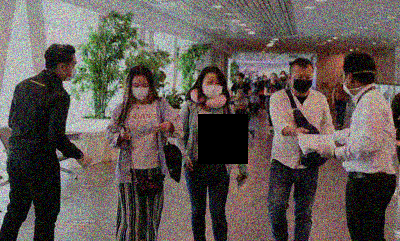with_mask: (293, 72, 315, 95), (202, 78, 223, 100), (131, 81, 151, 102), (63, 59, 77, 82), (343, 71, 354, 99), (281, 72, 286, 78), (264, 76, 268, 82)
without_mask: (271, 73, 278, 82), (236, 91, 243, 99), (236, 76, 243, 83)
